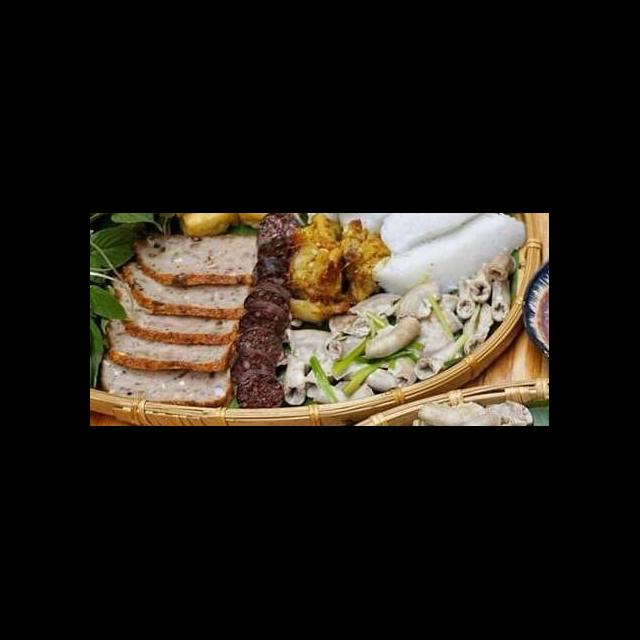bun: (370, 215, 530, 302)
bun dau: (92, 234, 531, 426)
cha com: (104, 276, 243, 344), (102, 316, 244, 378), (118, 258, 260, 320), (94, 350, 236, 410), (128, 228, 262, 290)
dau hu: (176, 214, 242, 240)
doi sun: (232, 366, 288, 412), (254, 214, 304, 260), (228, 346, 280, 390), (234, 324, 288, 366), (238, 298, 290, 340), (242, 280, 296, 318), (248, 252, 292, 288)
